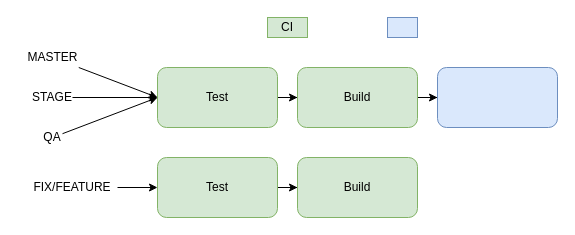
This 575x235 diagram has some shape labels left out. Each missing label, with the box of its shape:
CD: (386, 16, 418, 38)
Deploy: (436, 66, 558, 128)
